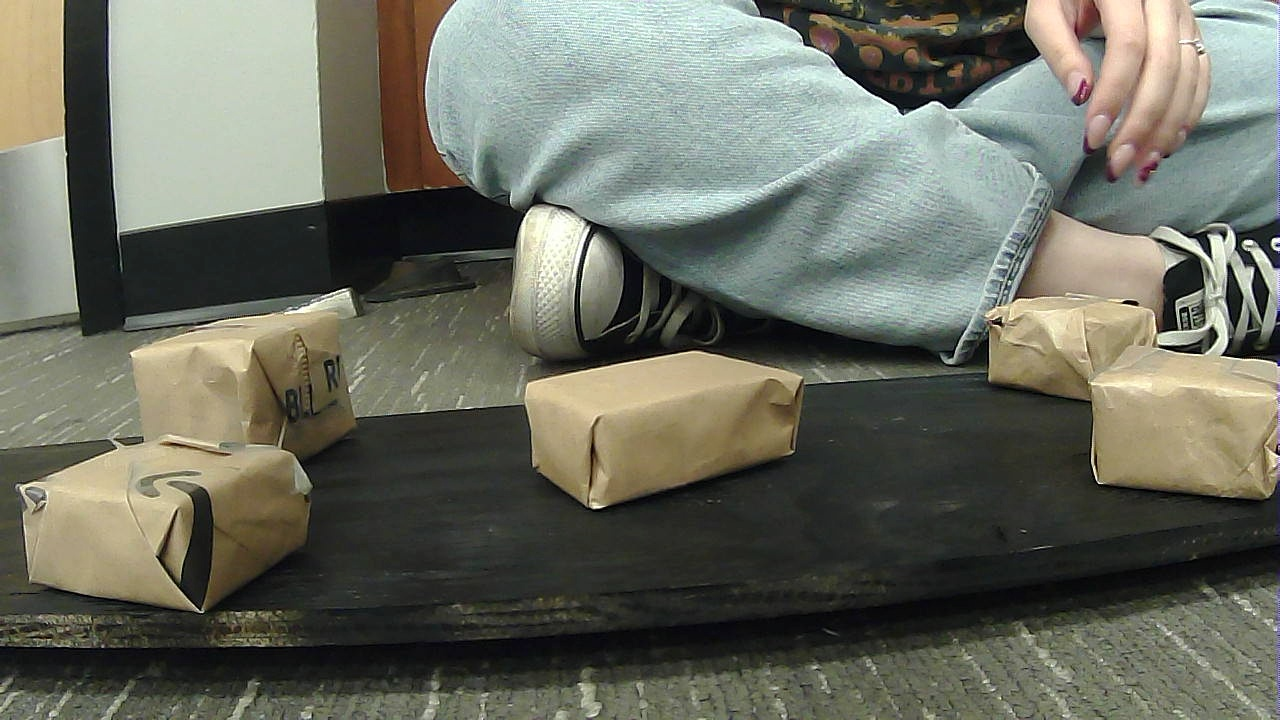package: (29, 423, 357, 624), (509, 337, 837, 501), (139, 324, 395, 479), (1083, 336, 1268, 512), (972, 280, 1174, 404)
